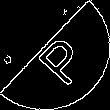P_NW: (23, 24, 87, 86)
